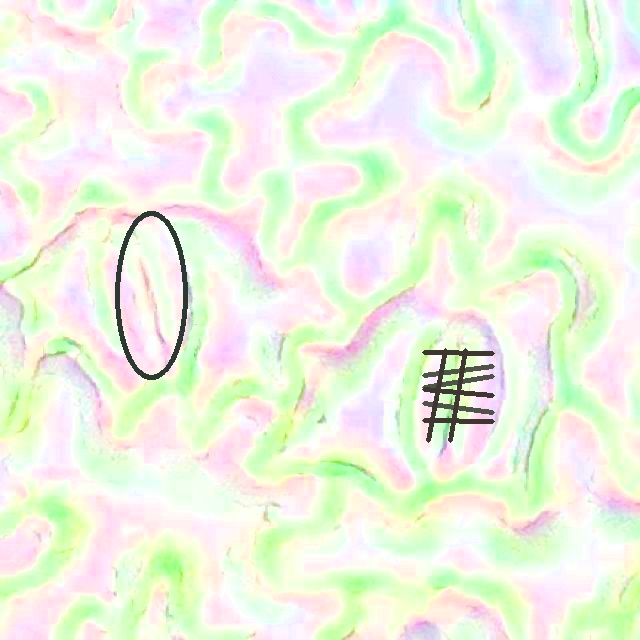open: (114, 210, 188, 380), (422, 349, 493, 442)
